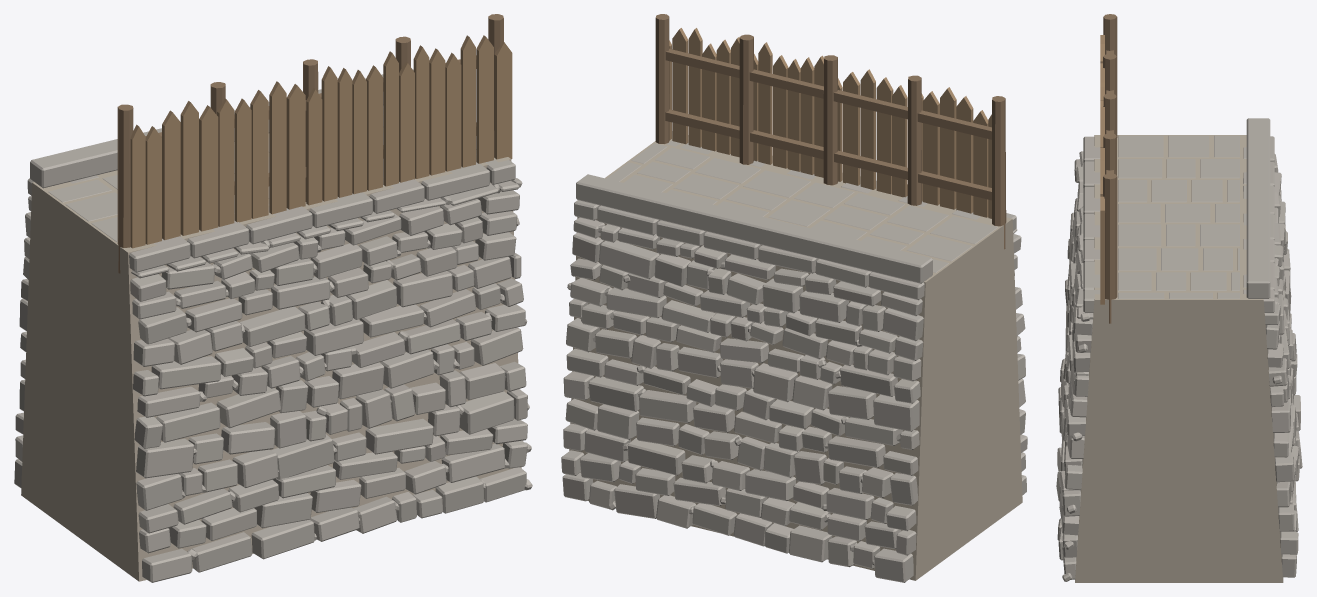
File: W01_城墙直段.fbx
3 views of the same model, side by side, from view 1: azimuth 30°, elevation 25°; view 2: azimuth 150°, elevation 25°; view 3: azimuth 270°, elevation 25° (orthographic). The views are drawn at different scales.
Parts seen in each view (by area): view 1: W01_毛石, W01_女墙_竖板, W01_墙芯, W01_压檐石, W01_女墙_立柱, W01_内侧护石, W01_步道, W01_毛石内; view 2: W01_毛石内, W01_墙芯, W01_女墙_竖板, W01_步道, W01_内侧护石, W01_女墙_立柱, W01_女墙_横档, W01_压檐石, W01_毛石; view 3: W01_墙芯, W01_步道, W01_毛石, W01_毛石内, W01_内侧护石, W01_压檐石, W01_女墙_立柱, W01_女墙_竖板.
Boxes of the visible parts, bbox=[...] form: W01_毛石: bbox=[130, 178, 532, 582]; W01_女墙_竖板: bbox=[130, 35, 512, 248]; W01_墙芯: bbox=[21, 108, 521, 581]; W01_压檐石: bbox=[27, 105, 515, 272]; W01_女墙_立柱: bbox=[117, 14, 503, 273]; W01_内侧护石: bbox=[30, 69, 413, 188]; W01_步道: bbox=[48, 110, 476, 242]; W01_毛石内: bbox=[14, 195, 31, 487]; W01_毛石内: bbox=[561, 217, 923, 582]; W01_墙芯: bbox=[569, 136, 1022, 580]; W01_女墙_竖板: bbox=[669, 28, 991, 218]; W01_步道: bbox=[606, 143, 997, 272]; W01_内侧护石: bbox=[576, 174, 932, 283]; W01_女墙_立柱: bbox=[655, 14, 1006, 249]; W01_女墙_横档: bbox=[665, 48, 991, 200]; W01_压檐石: bbox=[574, 131, 1016, 300]; W01_毛石: bbox=[1013, 229, 1027, 495]; W01_墙芯: bbox=[1075, 135, 1283, 582]; W01_步道: bbox=[1118, 135, 1239, 298]; W01_毛石: bbox=[1056, 151, 1093, 581]; W01_毛石内: bbox=[1264, 154, 1302, 577]; W01_内侧护石: bbox=[1246, 118, 1270, 298]; W01_压檐石: bbox=[1083, 136, 1274, 312]; W01_女墙_立柱: bbox=[1103, 14, 1117, 323]; W01_女墙_竖板: bbox=[1100, 35, 1104, 304].
Bounding box in the file's own units: 609 × 686 × 378.
